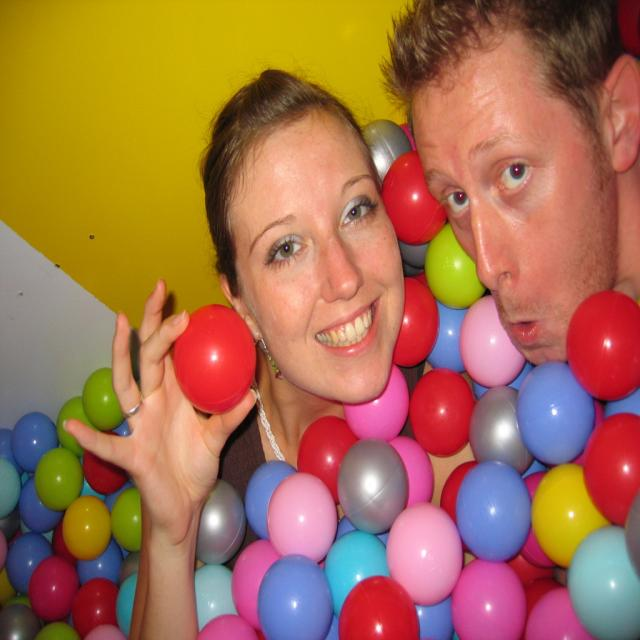Toy: (0, 116, 640, 640)
